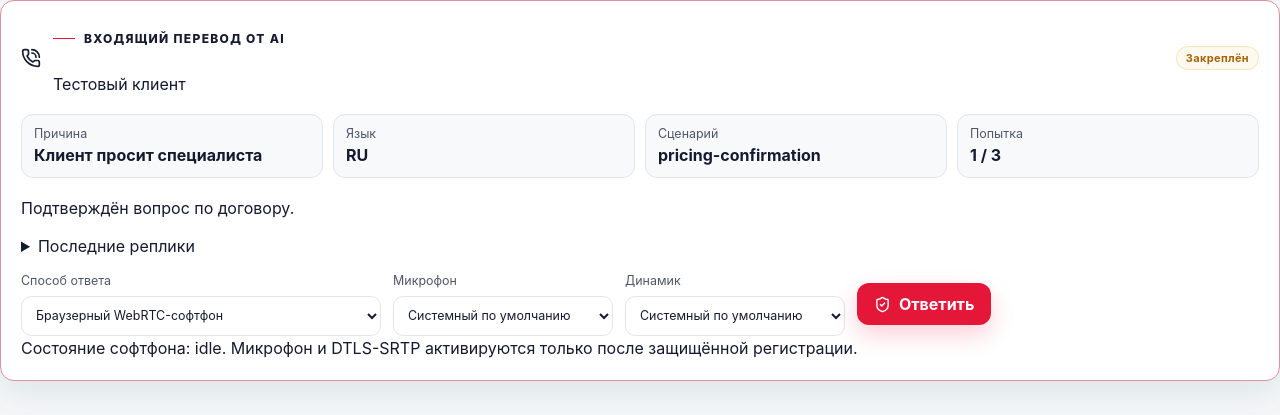
live operator transfer › answers a claimed offer on an allowlisted SIP phone without browser credentials
Select "Внутренний 17017" in the dropdown labelled "Способ ответа" at (201, 316), box 21,296 -> 381,336
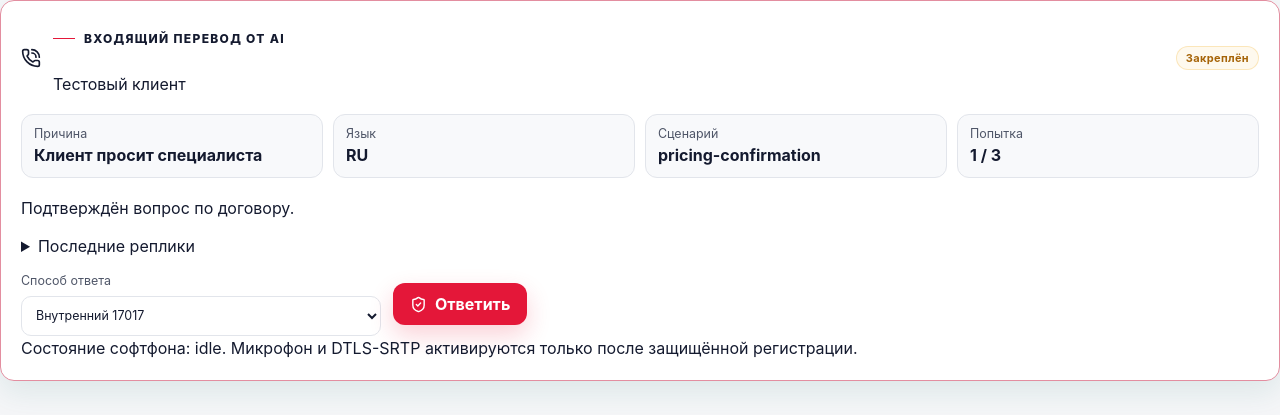
Click the button "Ответить" at (460, 304), box 393,283 -> 527,325
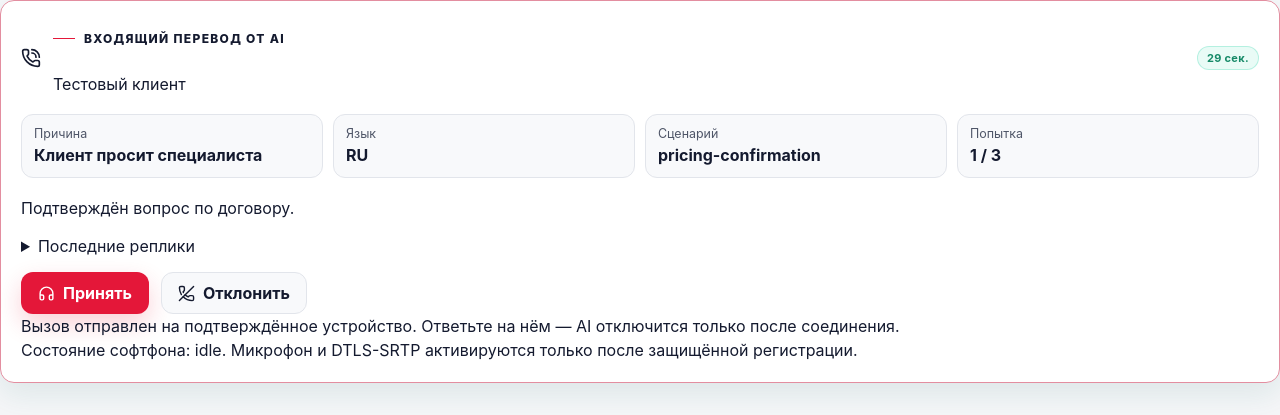
Expected: the text "подтверждённое устройство" is shown, 21,316 -> 900,336
